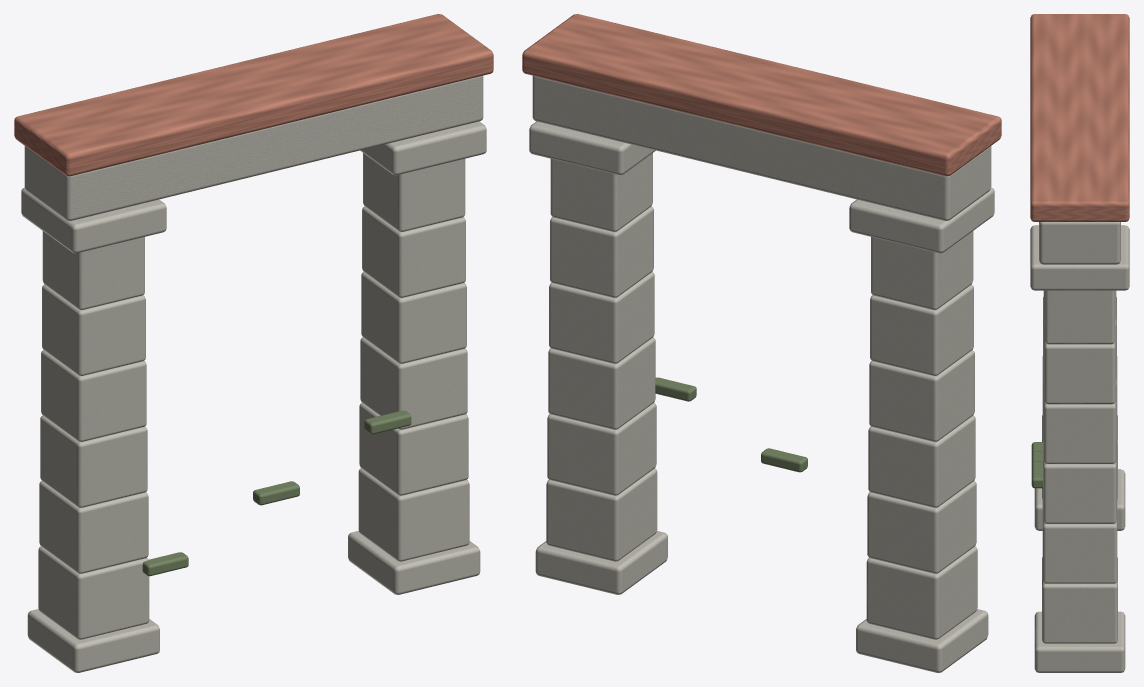
The model's file is jungle-temple-and-stone-city-colonnade-section-b9d70300__36119.glb.
3 views of the same model, side by side, from view 1: azimuth 30°, elevation 25°; view 2: azimuth 150°, elevation 25°; view 3: azimuth 270°, elevation 25° (orthographic). The views are drawn at different scales.
Parts seen in each view (by area): view 1: colonnade-section; view 2: colonnade-section; view 3: colonnade-section.
Part boxes in pixels (x1,y1,x2,y2): colonnade-section: (14,14,493,672); colonnade-section: (522,14,1001,672); colonnade-section: (1030,14,1129,672).
Size of the model in its own units: 3.08 by 3.6 by 0.6799.
3 materials, 3 textured.
